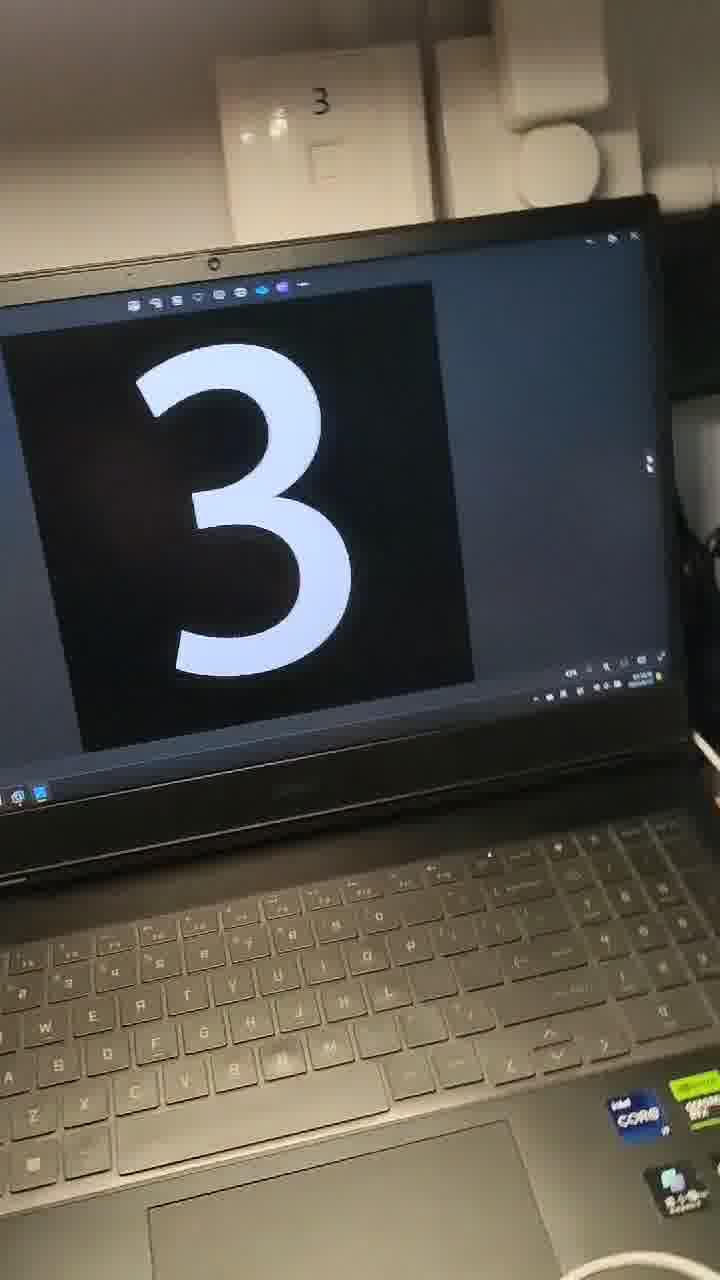three: (129, 328, 460, 741)
